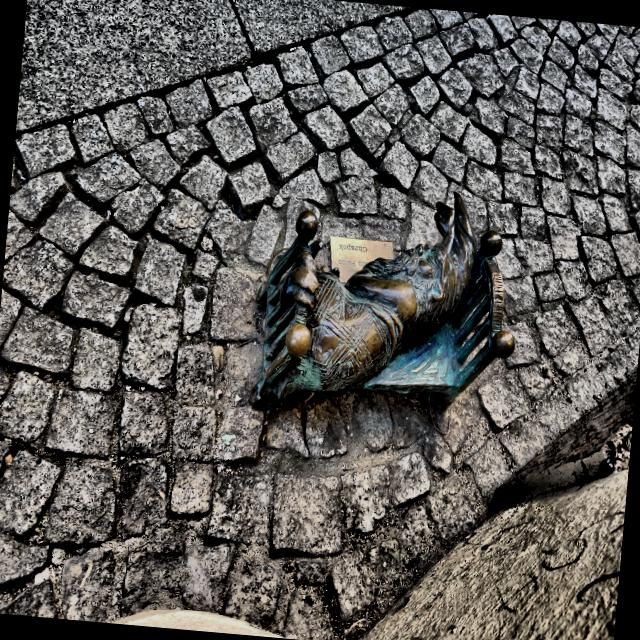Chrapek: (252, 193, 514, 409)
